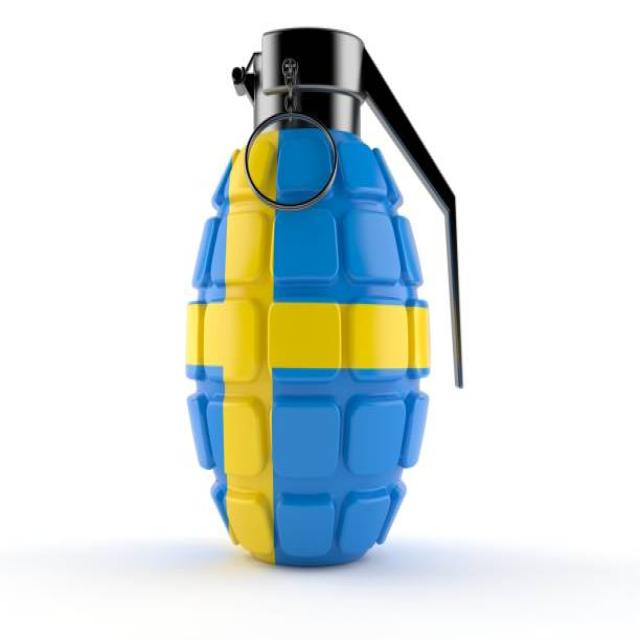grenade: (185, 23, 467, 579)
